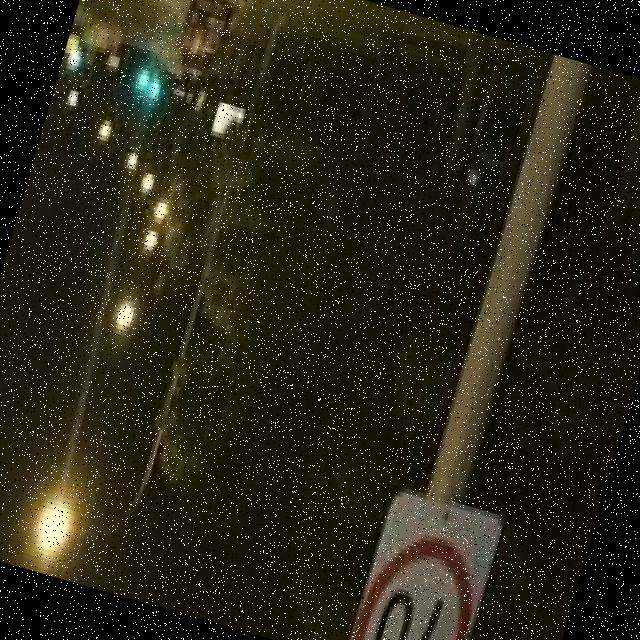speed_limit_70: (346, 523, 489, 640)
